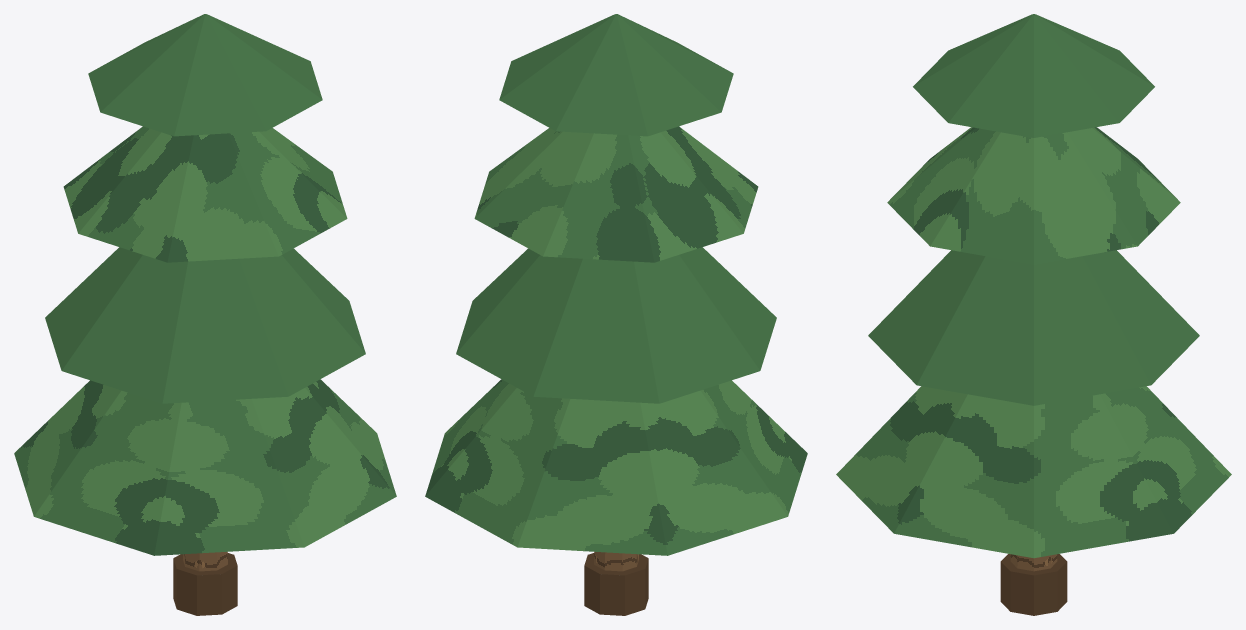
Rendered from pine.glb.
The picture shows the model from 3 angles, left to right: view 1: azimuth 30°, elevation 25°; view 2: azimuth 150°, elevation 25°; view 3: azimuth 270°, elevation 25°; orthographic projection.
Visible parts, largest first — view 1: Pine; view 2: Pine; view 3: Pine.
Part boxes in pixels (left/top/right/bottom): Pine: left=14, top=14, right=396, bottom=615; Pine: left=425, top=14, right=807, bottom=615; Pine: left=836, top=14, right=1231, bottom=615.
Bounding box in the file's own units: 3.1 × 5.07 × 3.1.
Materials: 1 (1 with a texture image).
